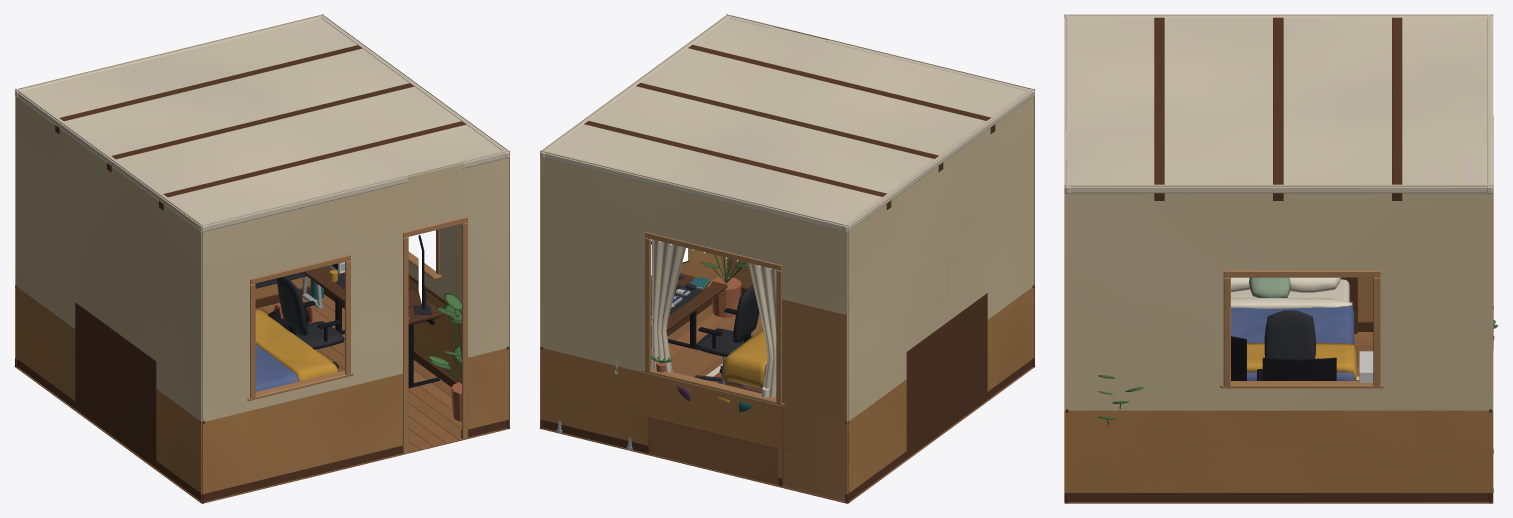
The model's file is aerie_bedroom_kit.glb.
The picture shows the model from 3 angles, left to right: view 1: azimuth 30°, elevation 25°; view 2: azimuth 150°, elevation 25°; view 3: azimuth 270°, elevation 25°; orthographic projection. The views are drawn at different scales.
Visible parts, largest first — view 1: Bedroom_Plaster, Bedroom_Wood, Bedroom_Plain, Bedroom_Fabric, Bedroom_Metal; view 2: Bedroom_Plaster, Bedroom_Wood, Bedroom_Fabric, Bedroom_Plain, Bedroom_Metal; view 3: Bedroom_Plaster, Bedroom_Wood, Bedroom_Plain, Bedroom_Fabric.
Boxes of the visible parts, left/top/right/bottom form: Bedroom_Plaster: left=14, top=14, right=510, bottom=502; Bedroom_Wood: left=14, top=45, right=510, bottom=503; Bedroom_Plain: left=15, top=15, right=509, bottom=421; Bedroom_Fabric: left=255, top=273, right=410, bottom=391; Bedroom_Metal: left=255, top=272, right=439, bottom=388; Bedroom_Plaster: left=539, top=14, right=1035, bottom=502; Bedroom_Wood: left=539, top=44, right=1035, bottom=503; Bedroom_Fabric: left=614, top=239, right=776, bottom=411; Bedroom_Plain: left=540, top=15, right=1034, bottom=397; Bedroom_Metal: left=556, top=275, right=751, bottom=450; Bedroom_Plaster: left=1064, top=14, right=1493, bottom=502; Bedroom_Wood: left=1064, top=17, right=1493, bottom=503; Bedroom_Plain: left=1064, top=15, right=1498, bottom=425; Bedroom_Fabric: left=1231, top=277, right=1494, bottom=380.
Bounding box in the file's own units: 3.58 × 2.96 × 3.65.
